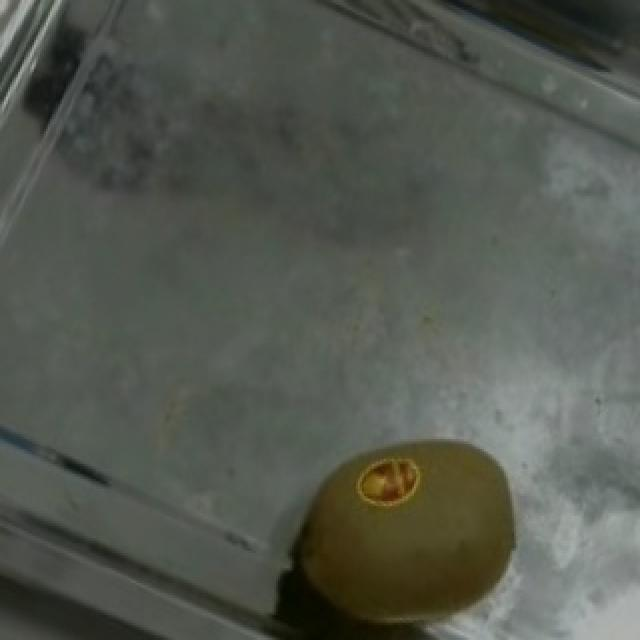Fruit: (250, 414, 544, 640)
